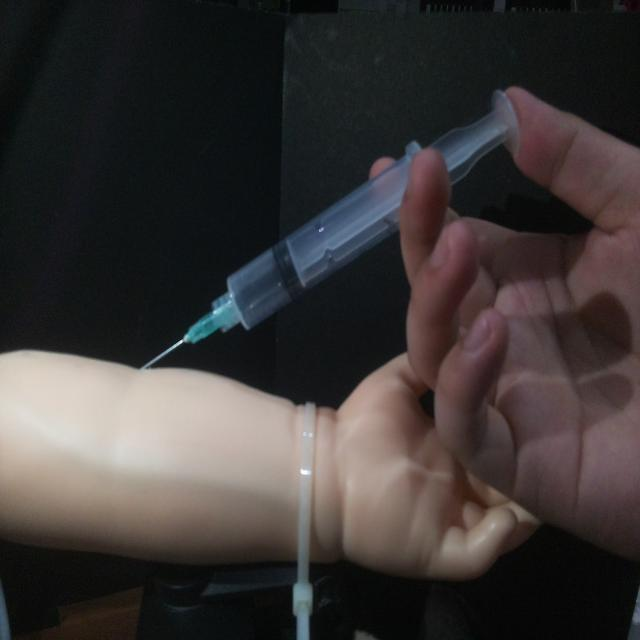27deg: (135, 84, 524, 373)
